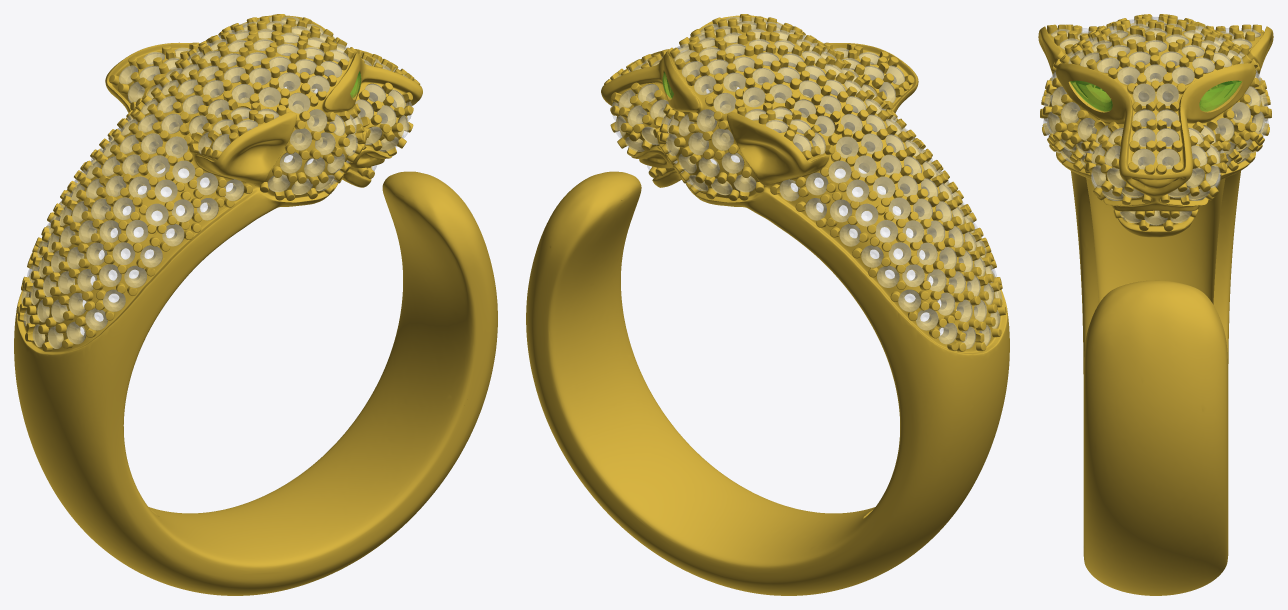
The model's file is ring.glb.
3 renders of one model, left to right at view 1: azimuth 30°, elevation 25°; view 2: azimuth 150°, elevation 25°; view 3: azimuth 270°, elevation 25°, orthographic.
Visible parts, largest first — view 1: Object; view 2: Object; view 3: Object, Diamond_Round (×7), Diamond_Pear.002, Diamond_Pear.001.
Part boxes in pixels (box(x1,y1,x2,y2)): Object: box(14, 14, 497, 595); Object: box(526, 14, 1009, 595); Object: box(1038, 14, 1273, 595); Diamond_Round (×7): box(1061, 66, 1250, 169); Diamond_Pear.002: box(1199, 81, 1241, 111); Diamond_Pear.001: box(1070, 81, 1112, 111).
Bounding box in the file's own units: 0.0227 × 0.0261 × 0.0102.
